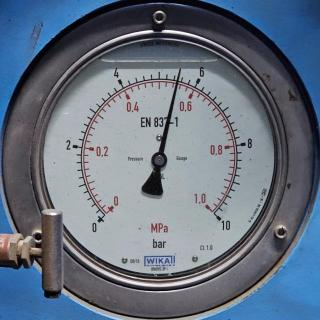gauge: (26, 20, 293, 302), (88, 193, 124, 235), (207, 206, 233, 232), (150, 151, 168, 169), (174, 65, 184, 79)
